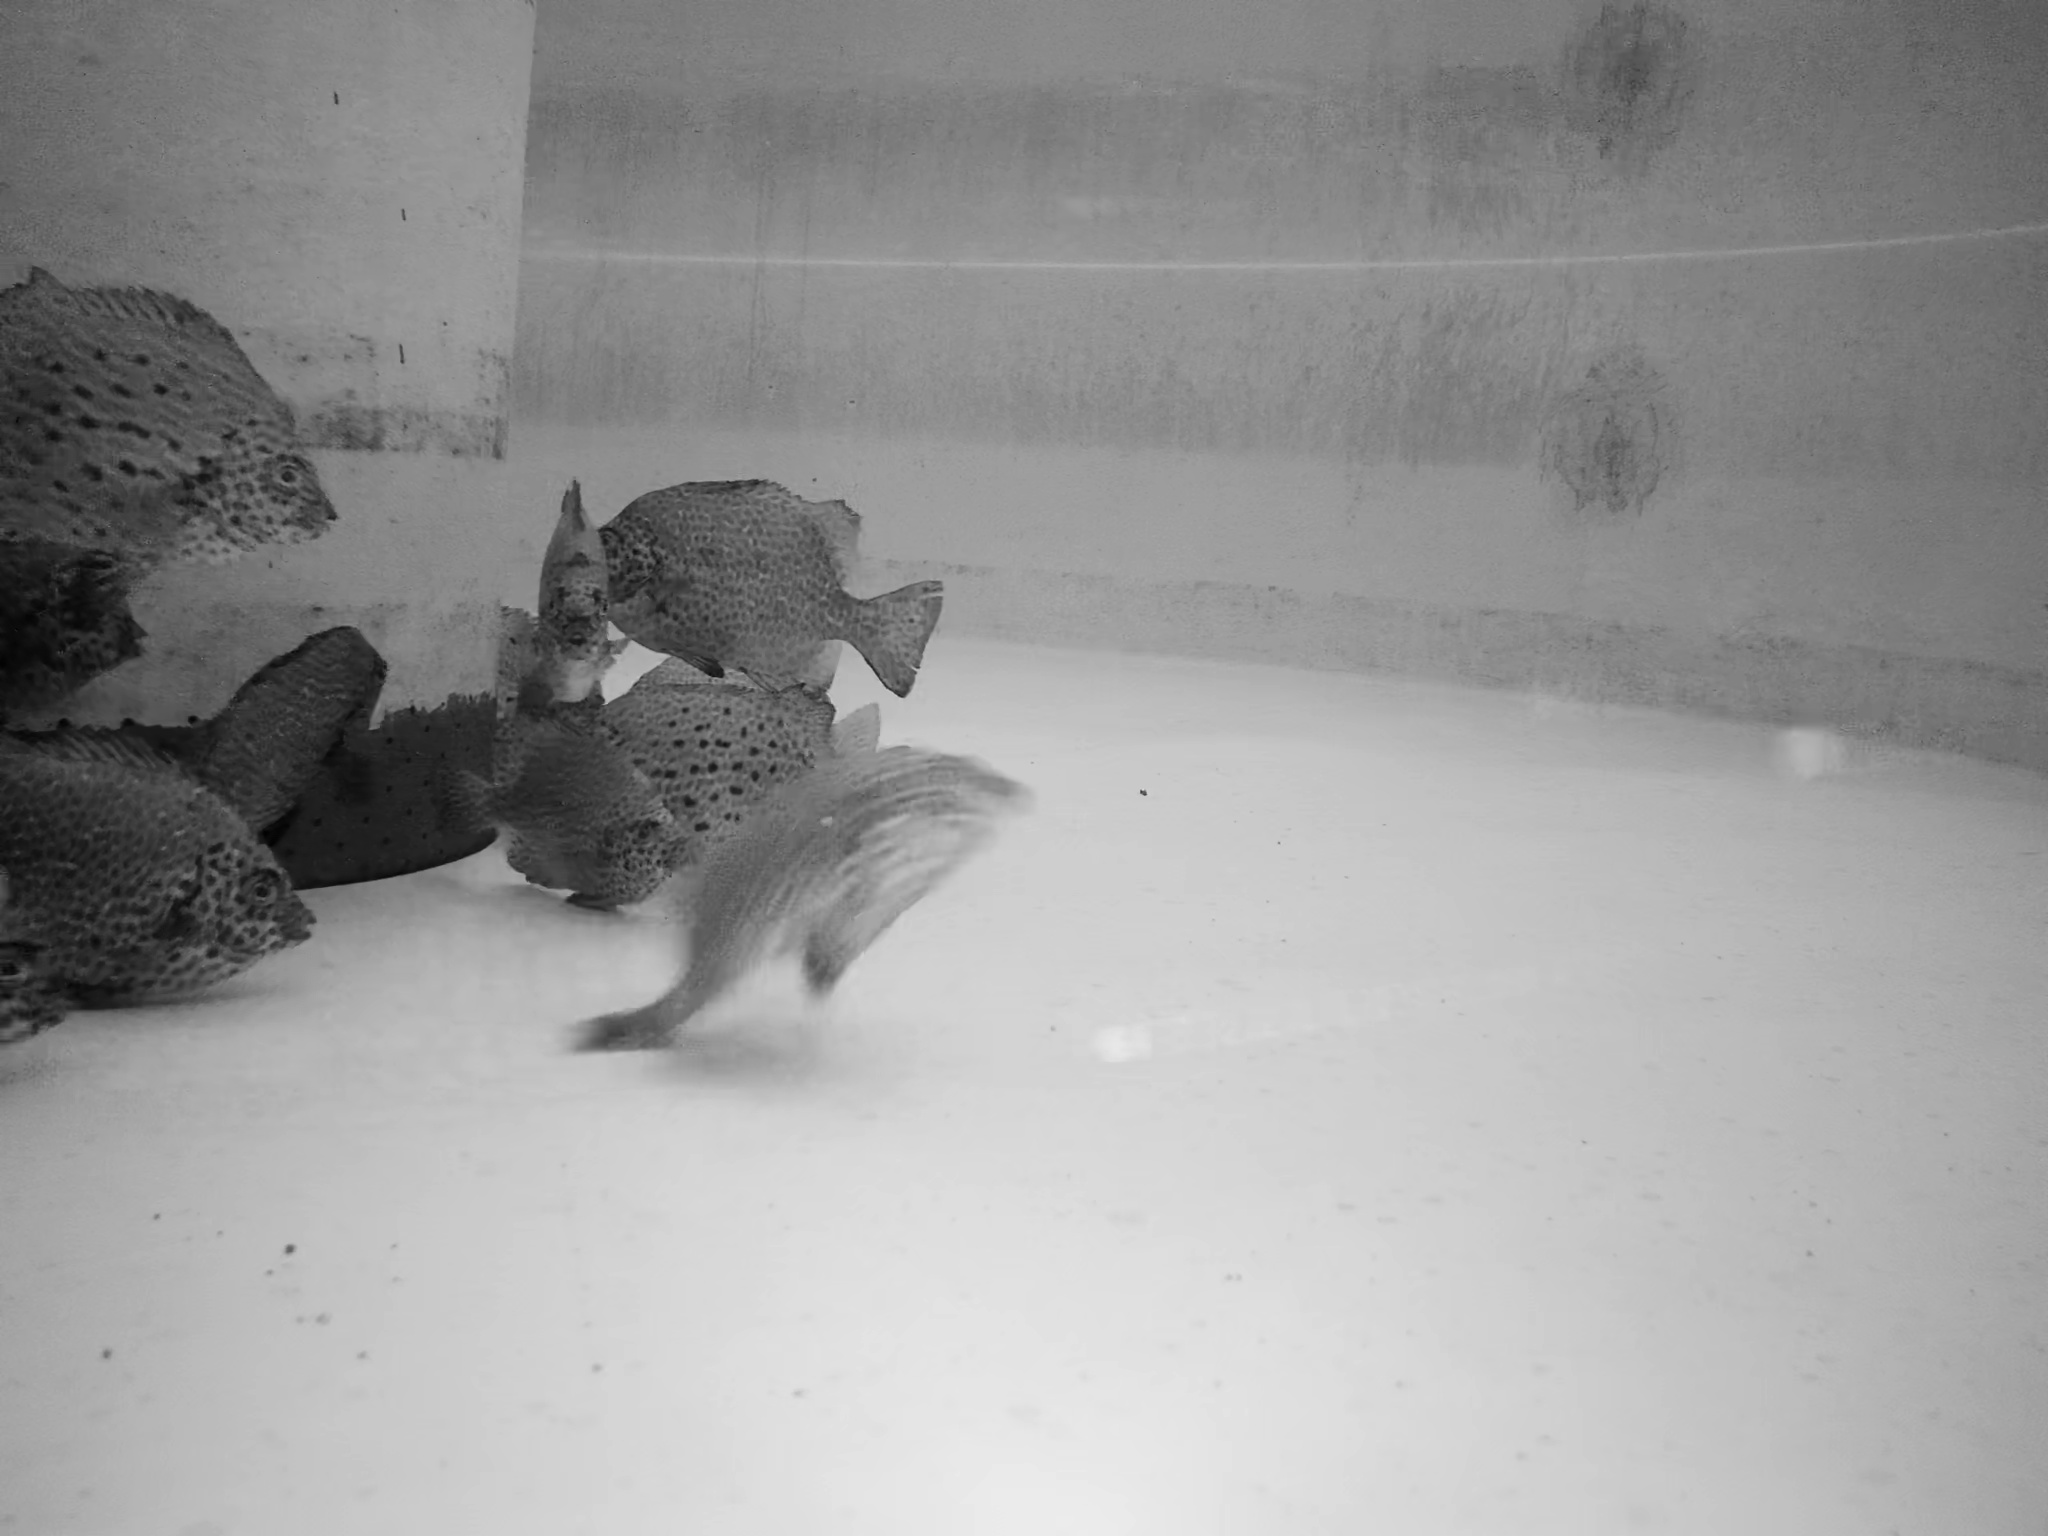fish: (576, 745, 1037, 1060), (2, 265, 340, 574), (2, 723, 323, 1020), (595, 474, 958, 720), (177, 613, 387, 866), (605, 653, 893, 836), (502, 715, 676, 915), (535, 471, 616, 710)
